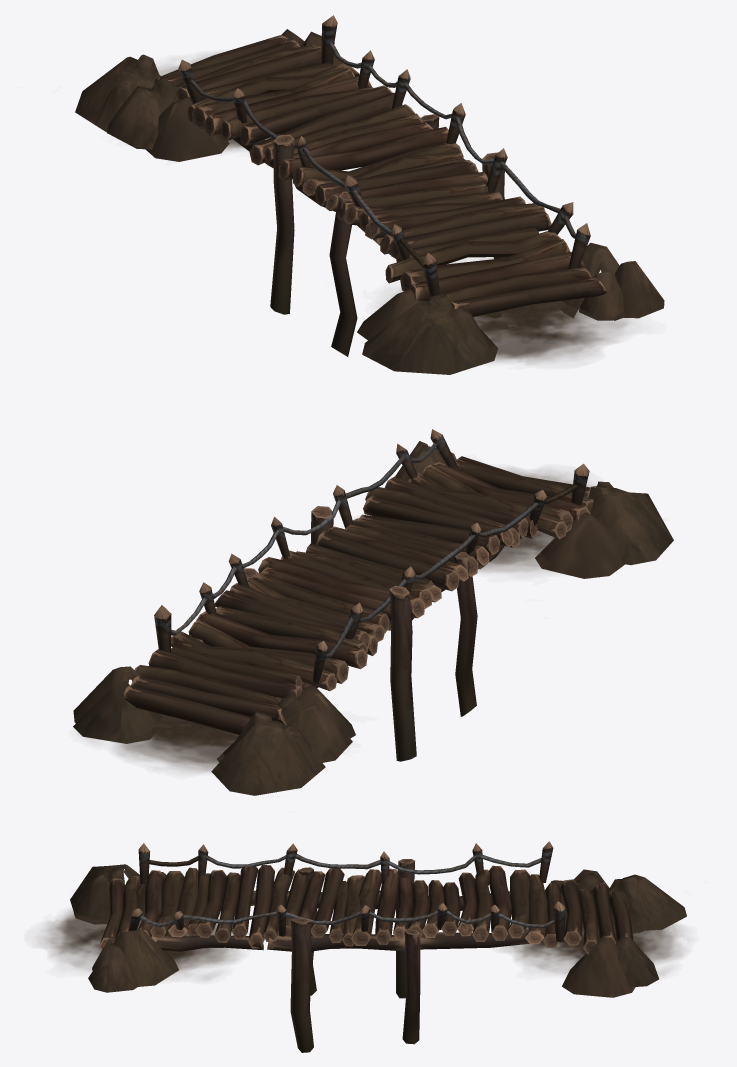
The picture shows the model from 3 angles, top to bottom: view 1: azimuth 30°, elevation 25°; view 2: azimuth 150°, elevation 25°; view 3: azimuth 270°, elevation 25°; orthographic projection. The views are drawn at different scales.
Parts seen in each view (by area): view 1: models_wooden_bridge_small-0-model, models_wooden_bridge_small-2-model, models_wooden_bridge_small-3-underlay; view 2: models_wooden_bridge_small-0-model, models_wooden_bridge_small-2-model, models_wooden_bridge_small-3-underlay; view 3: models_wooden_bridge_small-0-model, models_wooden_bridge_small-2-model, models_wooden_bridge_small-3-underlay.
Boxes of the visible parts, box(x1,y1,x2,y2) form: models_wooden_bridge_small-0-model: box(151, 15, 607, 356); models_wooden_bridge_small-2-model: box(75, 29, 664, 374); models_wooden_bridge_small-3-underlay: box(157, 53, 630, 364); models_wooden_bridge_small-0-model: box(124, 429, 593, 761); models_wooden_bridge_small-2-model: box(73, 441, 673, 795); models_wooden_bridge_small-3-underlay: box(82, 468, 593, 772); models_wooden_bridge_small-0-model: box(99, 841, 633, 1052); models_wooden_bridge_small-2-model: box(70, 864, 686, 997); models_wooden_bridge_small-3-underlay: box(38, 908, 683, 979).
Size of the model in its own units: 18.6 by 11.44 by 47.91.
Materials: 2 (2 with a texture image).
